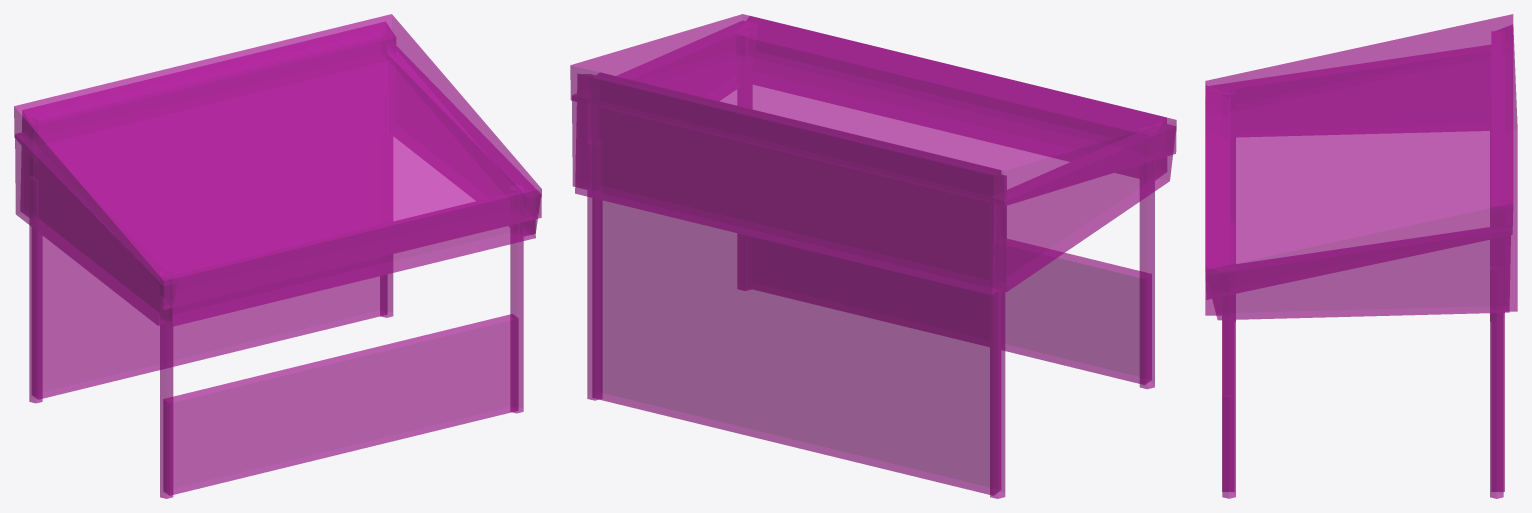
The model's file is SM_Prop_Stall_02_Collision.fbx.
The picture shows the model from 3 angles, left to right: view 1: azimuth 30°, elevation 25°; view 2: azimuth 150°, elevation 25°; view 3: azimuth 270°, elevation 25°; orthographic projection. The views are drawn at different scales.
Visible parts, largest first — view 1: SM_Prop_Stall_02_Collision; view 2: SM_Prop_Stall_02_Collision; view 3: SM_Prop_Stall_02_Collision.
Boxes of the visible parts, x1,y1,x2,y2 form: SM_Prop_Stall_02_Collision: (14,14,541,498); SM_Prop_Stall_02_Collision: (570,14,1176,498); SM_Prop_Stall_02_Collision: (1205,14,1517,498).
Bounding box in the file's own units: 402 × 296 × 280.
